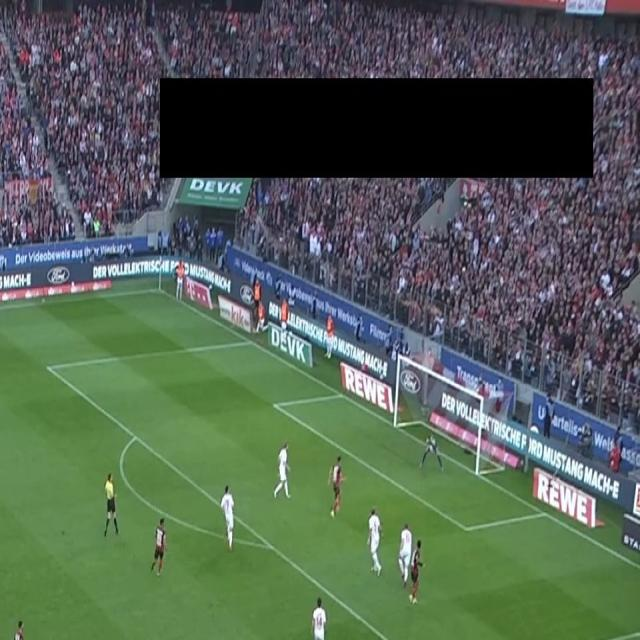ball: (428, 444, 433, 453)
